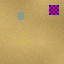person: (16, 11, 24, 20)
structure: (16, 34, 34, 45)
